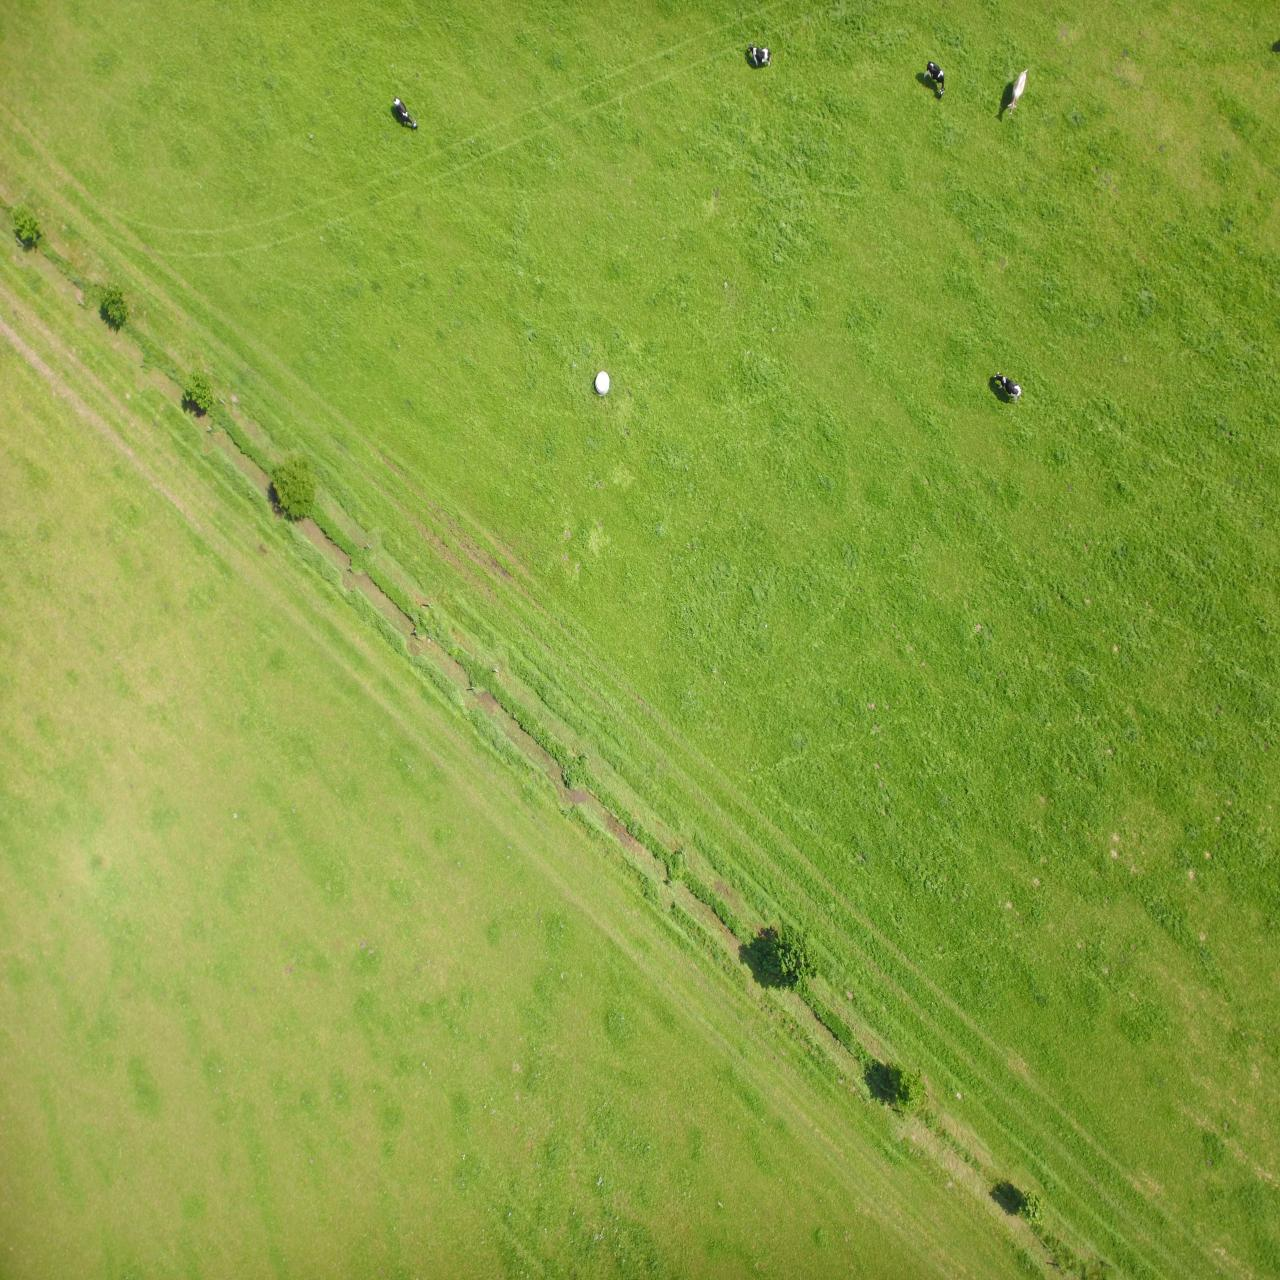cow: (989, 360, 1026, 418), (1001, 68, 1030, 122), (920, 53, 948, 104), (742, 39, 774, 75), (394, 94, 418, 138)
